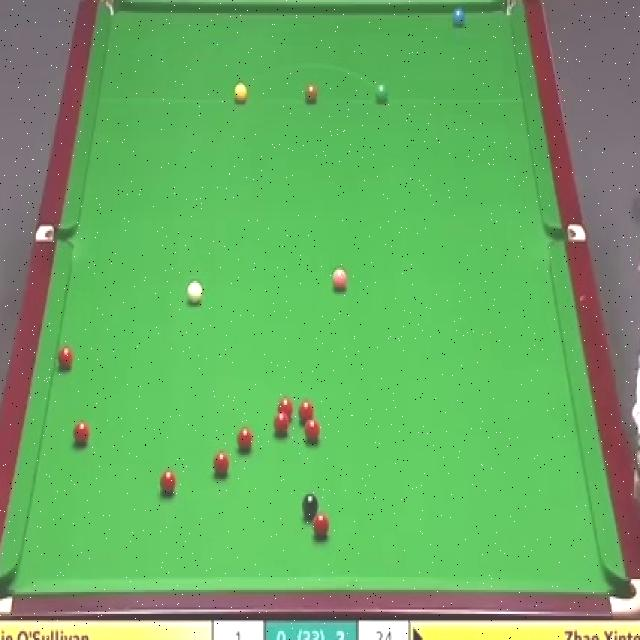black-ball: (302, 492, 317, 518)
blue-ball: (452, 7, 466, 31)
brown-ball: (305, 83, 319, 104)
green-ball: (374, 83, 389, 106)
pink-ball: (331, 265, 348, 296)
red-ball: (212, 450, 230, 478), (56, 346, 74, 372), (236, 425, 253, 452), (305, 417, 320, 447), (298, 397, 314, 425), (278, 396, 294, 424), (312, 512, 329, 538), (160, 468, 175, 497), (74, 420, 88, 446), (274, 412, 288, 435)
white-ball: (186, 280, 203, 305)
yellow-ball: (232, 82, 249, 104)
